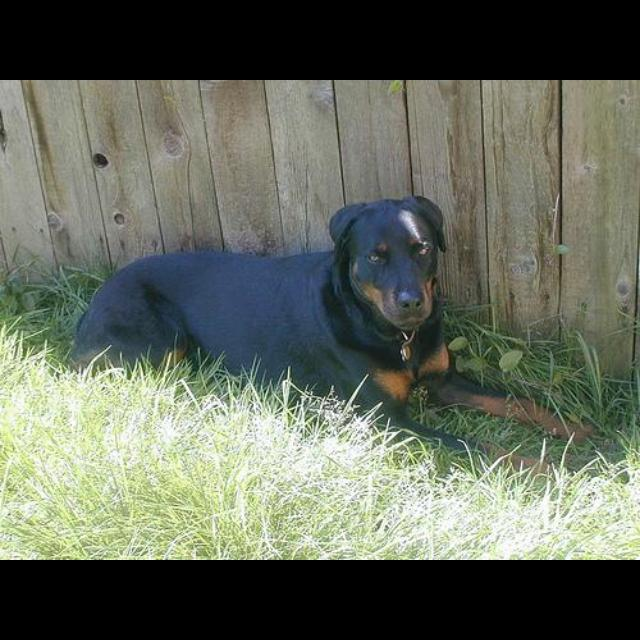rottweiler: (67, 195, 599, 483)
